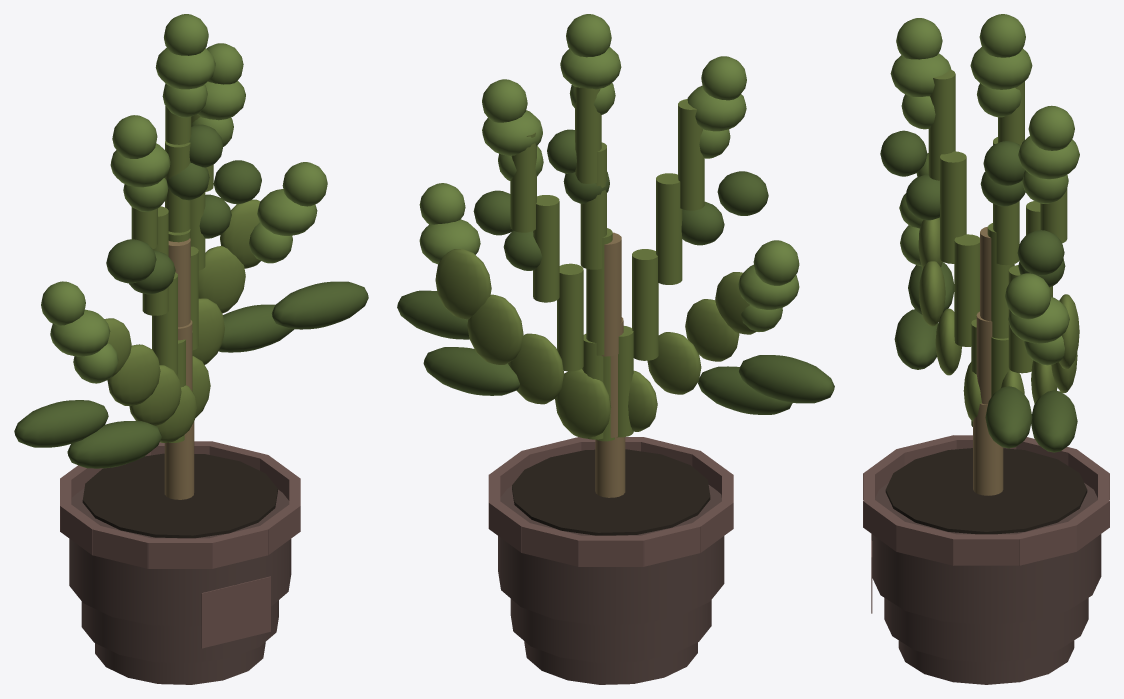
Rendered from CMU3DPottedPlant5.glb.
3 views of the same model, side by side, from view 1: azimuth 30°, elevation 25°; view 2: azimuth 150°, elevation 25°; view 3: azimuth 270°, elevation 25° (orthographic). The views are drawn at different scales.
Parts seen in each view (by area): view 1: tapered leaf blade (×25), branch (×18), recessed soil, upper pot wall, lower tapered pot wall, pot front highlight, narrow pot foot, hollow curved planter rim 09, hollow curved planter rim 10, hollow curved planter rim 08, hollow curved planter rim 07, hollow curved planter rim 11 (+3 smaller); view 2: branch (×22), tapered leaf blade (×22), upper pot wall, recessed soil, lower tapered pot wall, narrow pot foot, hollow curved planter rim 05, hollow curved planter rim 06, hollow curved planter rim 04, hollow curved planter rim 07, hollow curved planter rim 03, hollow curved planter rim 12 (+3 smaller); view 3: tapered leaf blade (×22), branch (×20), upper pot wall, recessed soil, lower tapered pot wall, narrow pot foot, hollow curved planter rim 01, hollow curved planter rim 02, hollow curved planter rim 12, hollow curved planter rim 03, hollow curved planter rim 11, hollow curved planter rim 05 (+3 smaller).
Boxes of the visible parts, x1,y1,x2,y2 form: tapered leaf blade (×25): [14, 14, 368, 468]; branch (×18): [104, 83, 260, 499]; recessed soil: [82, 453, 277, 538]; upper pot wall: [69, 488, 291, 626]; lower tapered pot wall: [81, 600, 278, 663]; pot front highlight: [201, 576, 270, 648]; narrow pot foot: [95, 642, 265, 684]; hollow curved planter rim 09: [147, 538, 212, 568]; hollow curved planter rim 10: [207, 525, 268, 568]; hollow curved planter rim 08: [92, 525, 153, 568]; hollow curved planter rim 07: [60, 505, 99, 554]; hollow curved planter rim 11: [261, 505, 300, 554]; branch (×22): [435, 87, 756, 497]; tapered leaf blade (×22): [397, 14, 834, 414]; upper pot wall: [498, 485, 724, 625]; recessed soil: [512, 449, 710, 535]; lower tapered pot wall: [510, 599, 711, 662]; narrow pot foot: [524, 641, 697, 684]; hollow curved planter rim 05: [578, 535, 644, 566]; hollow curved planter rim 06: [638, 522, 700, 566]; hollow curved planter rim 04: [521, 522, 583, 566]; hollow curved planter rim 07: [693, 500, 733, 552]; hollow curved planter rim 03: [489, 500, 529, 552]; hollow curved planter rim 12: [522, 437, 582, 466]; tapered leaf blade (×22): [880, 14, 1079, 452]; branch (×20): [918, 69, 1079, 495]; upper pot wall: [871, 483, 1101, 624]; recessed soil: [885, 448, 1087, 534]; lower tapered pot wall: [884, 598, 1088, 662]; narrow pot foot: [898, 640, 1074, 684]; hollow curved planter rim 01: [953, 534, 1019, 565]; hollow curved planter rim 02: [1013, 521, 1076, 565]; hollow curved planter rim 12: [896, 521, 959, 565]; hollow curved planter rim 03: [1069, 499, 1109, 551]; hollow curved planter rim 11: [863, 500, 903, 551]; hollow curved planter rim 05: [1067, 449, 1109, 499].
Size of the model in its own units: 0.6702 by 1.02 by 0.3579.
